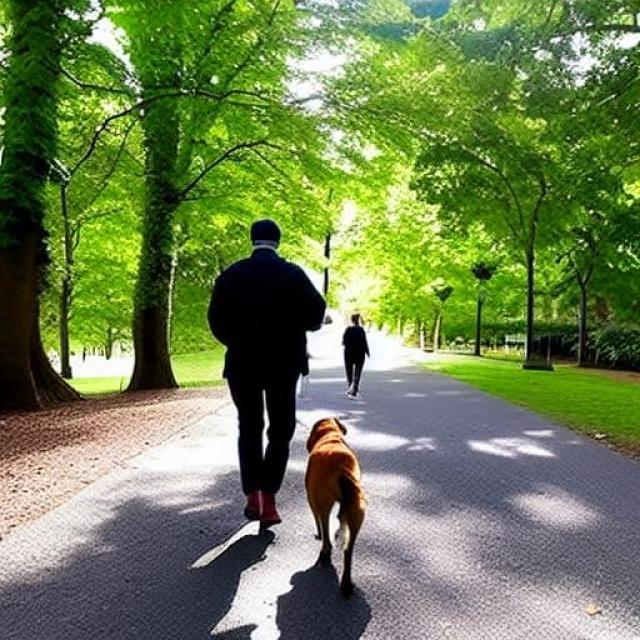Unleashed_Dog: (228, 362, 369, 587)
